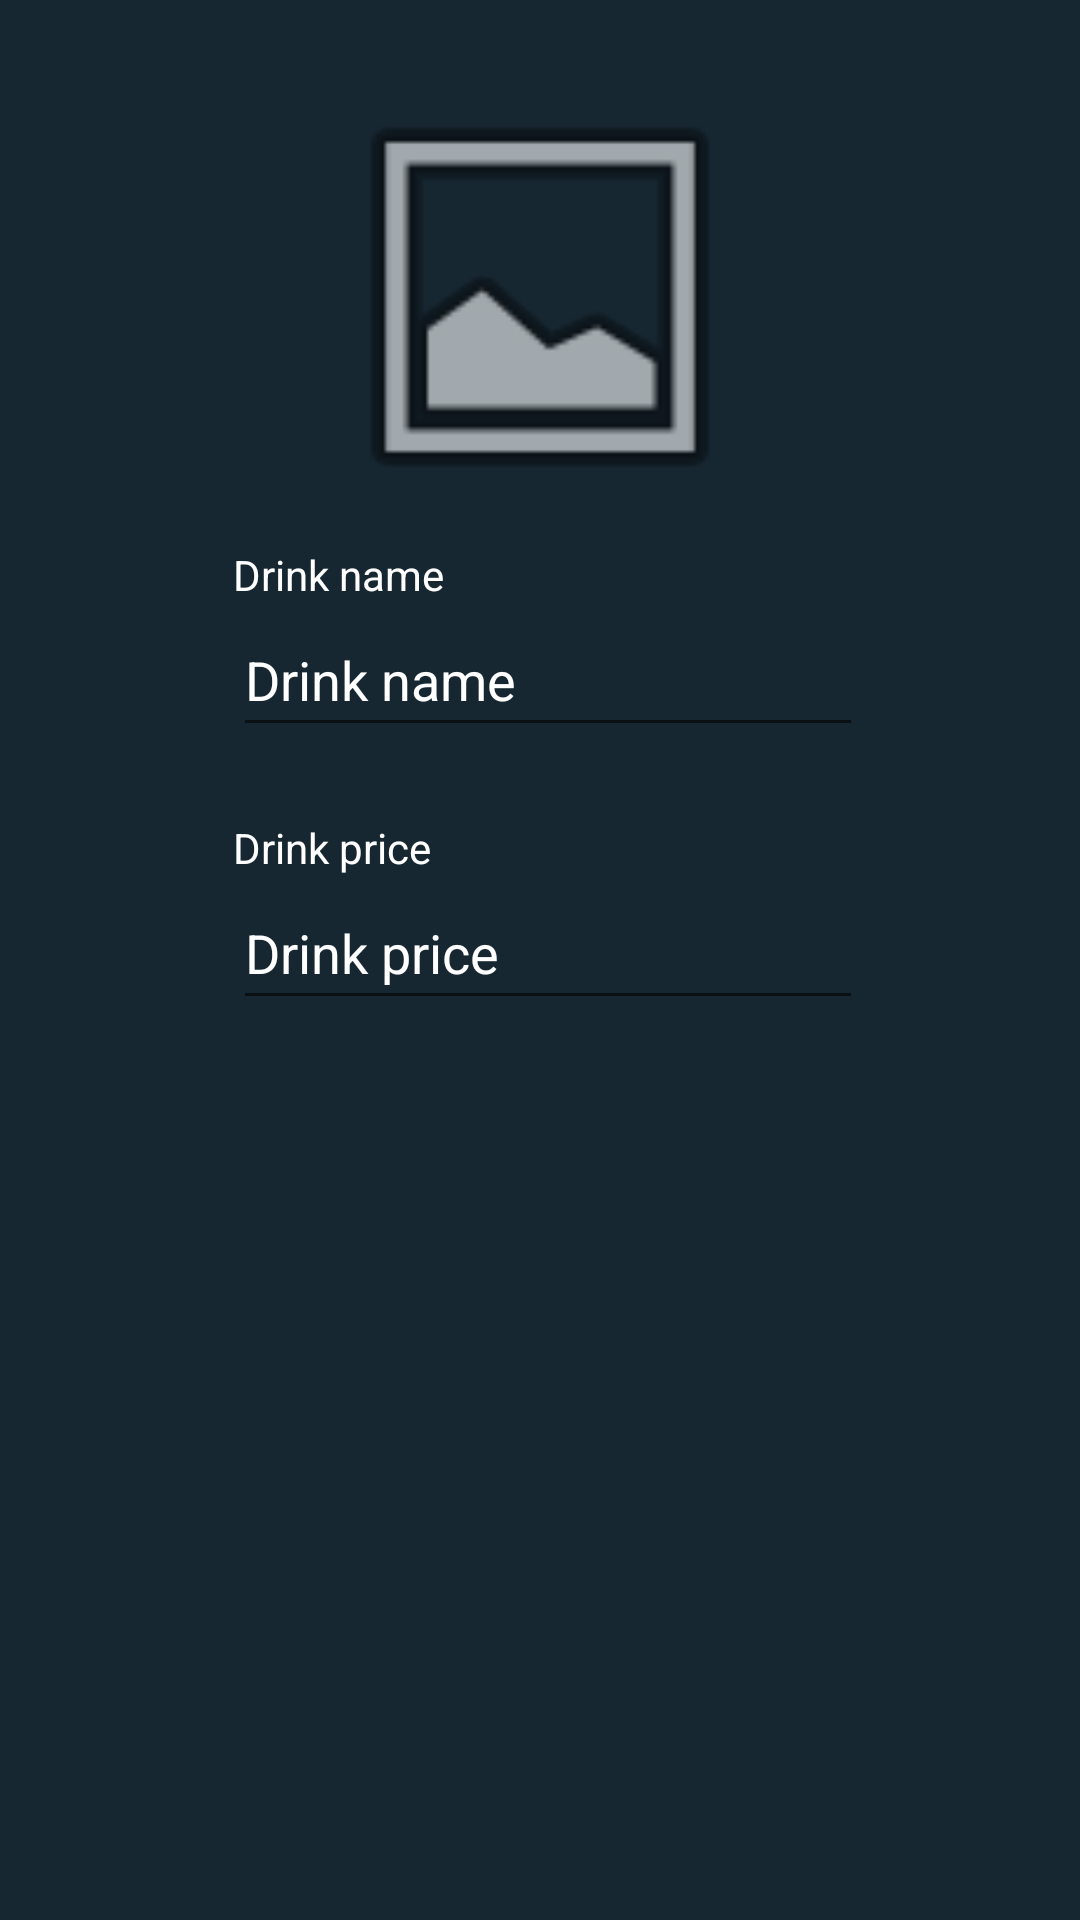

Screen size 1080px×1920px. Icon name, then its box in pixels as [x1, y1, x2, y2]:
gallery: [381, 137, 699, 457]
